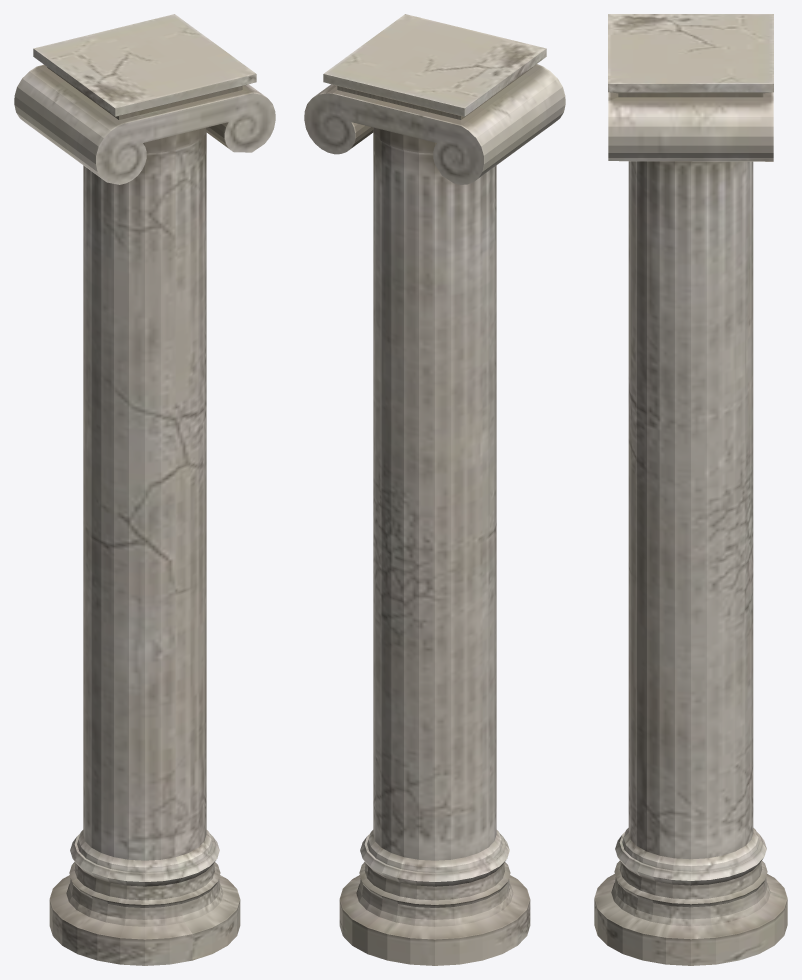
The model's file is columna.glb.
3 views of the same model, side by side, from view 1: azimuth 30°, elevation 25°; view 2: azimuth 150°, elevation 25°; view 3: azimuth 270°, elevation 25° (orthographic).
Visible parts, largest first — view 1: Cylinder_0; view 2: Cylinder_0; view 3: Cylinder_0.
Boxes of the visible parts, left/top/right/bottom form: Cylinder_0: left=14, top=14, right=275, bottom=965; Cylinder_0: left=304, top=14, right=565, bottom=965; Cylinder_0: left=594, top=14, right=787, bottom=965.
Size of the model in its own units: 1.31 by 6.01 by 1.2.
Materials: 1 (1 with a texture image).
